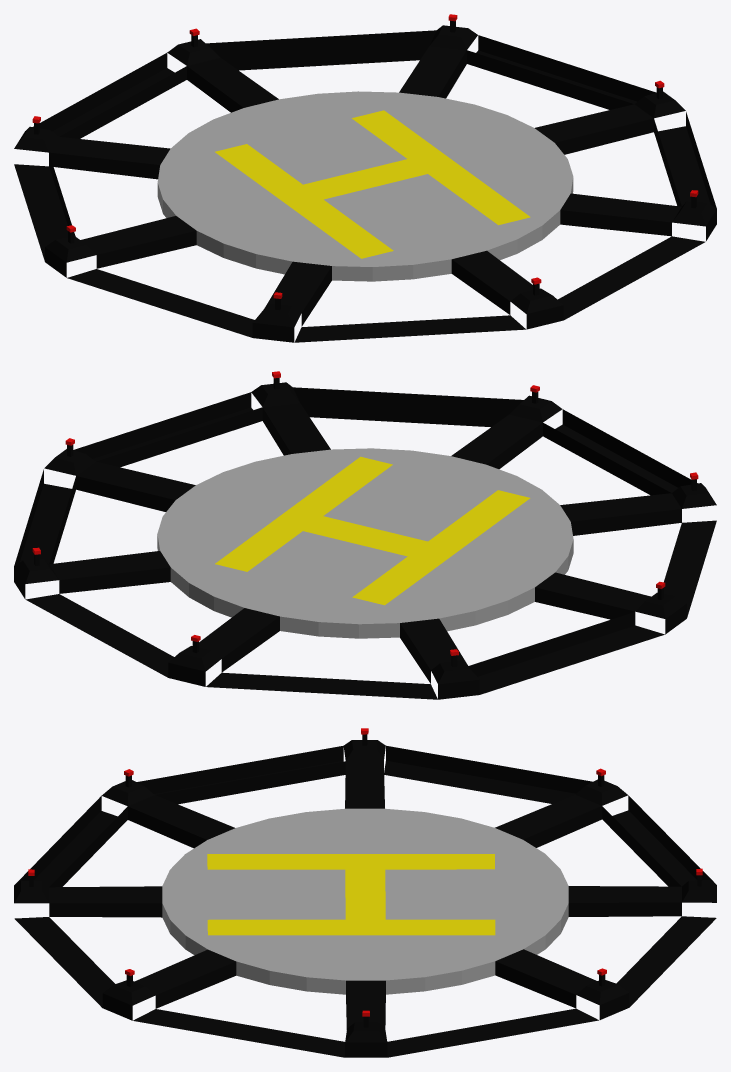
3 views of the same model, one above another, from view 1: azimuth 30°, elevation 25°; view 2: azimuth 150°, elevation 25°; view 3: azimuth 270°, elevation 25° (orthographic).
Parts seen in each view (by area): view 1: Cylinder; view 2: Cylinder; view 3: Cylinder.
Part boxes in pixels (box(x1,y1,x2,y2)): Cylinder: box(14, 14, 716, 342); Cylinder: box(14, 371, 716, 699); Cylinder: box(14, 728, 716, 1057).
Bounding box in the file's own units: 344 × 20.86 × 344.
